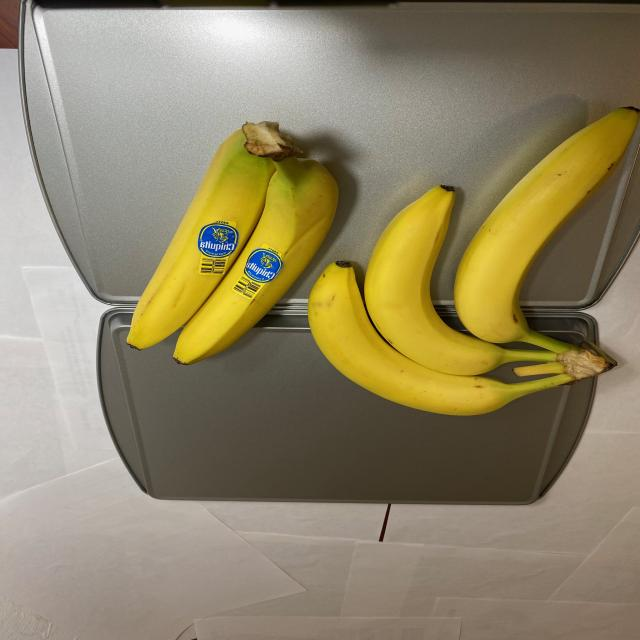banana: (301, 94, 632, 410), (116, 112, 356, 364)
